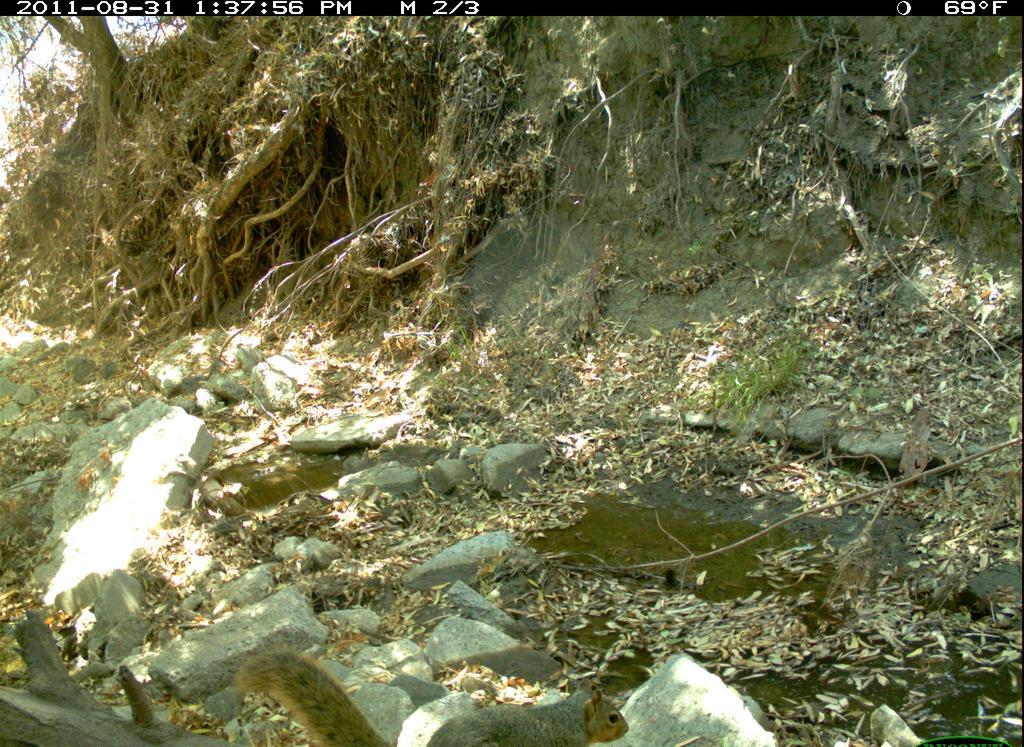squirrel: (235, 632, 635, 740)
